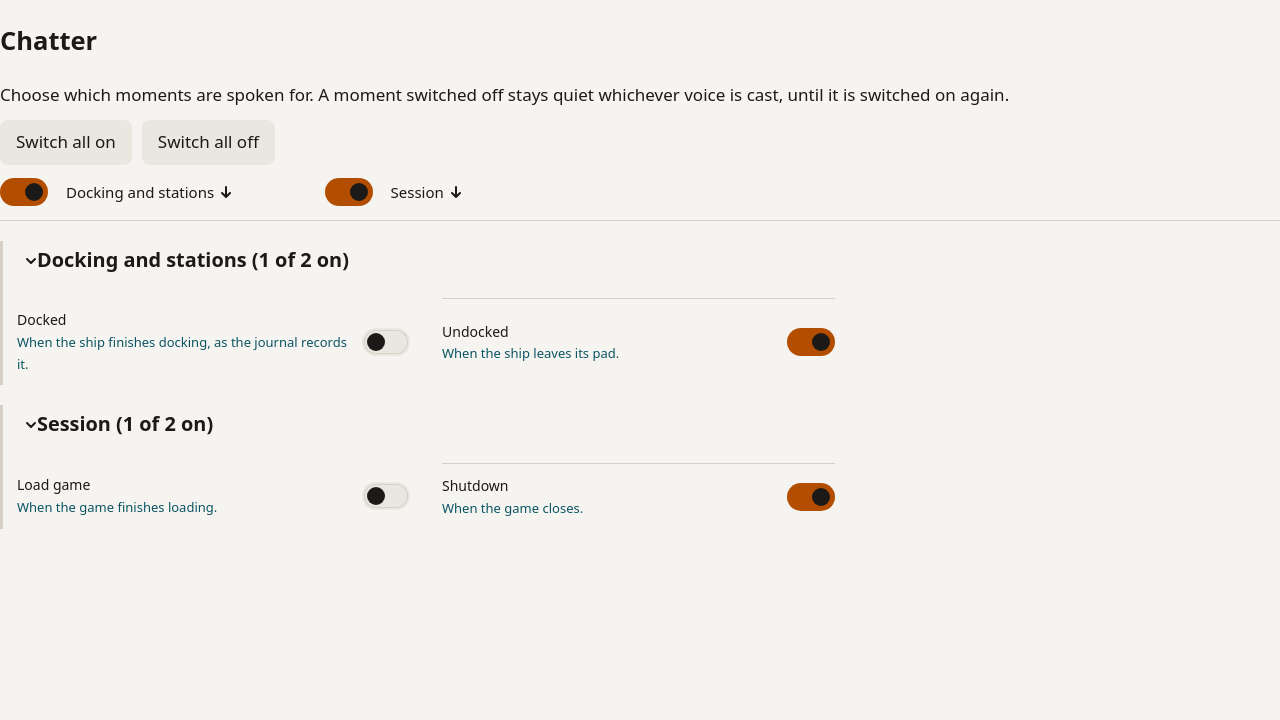
the chatter pane › asks before changing many moments and changes nothing when declined
This screenshot has width=1280, height=720.
Expected: the switch named "Docked" is shown, x1=362 y1=328 x2=410 y2=356
Click the button "Switch all on".
click(66, 142)  # box x1=0 y1=120 x2=132 y2=164
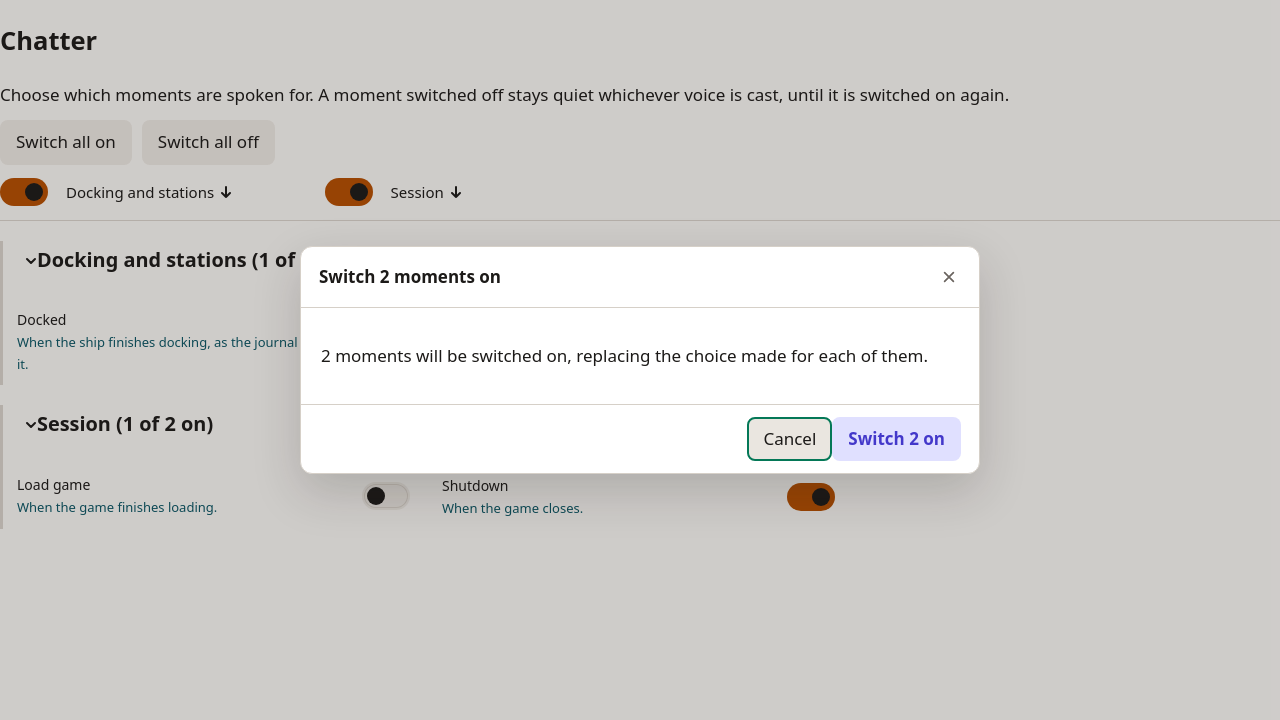
Expected: the dialog "Switch 2 moments on" shows "2 moments will be switched on", x1=321 y1=344 x2=928 y2=367
Click the button "Cancel".
click(790, 439)  # box x1=747 y1=417 x2=832 y2=461
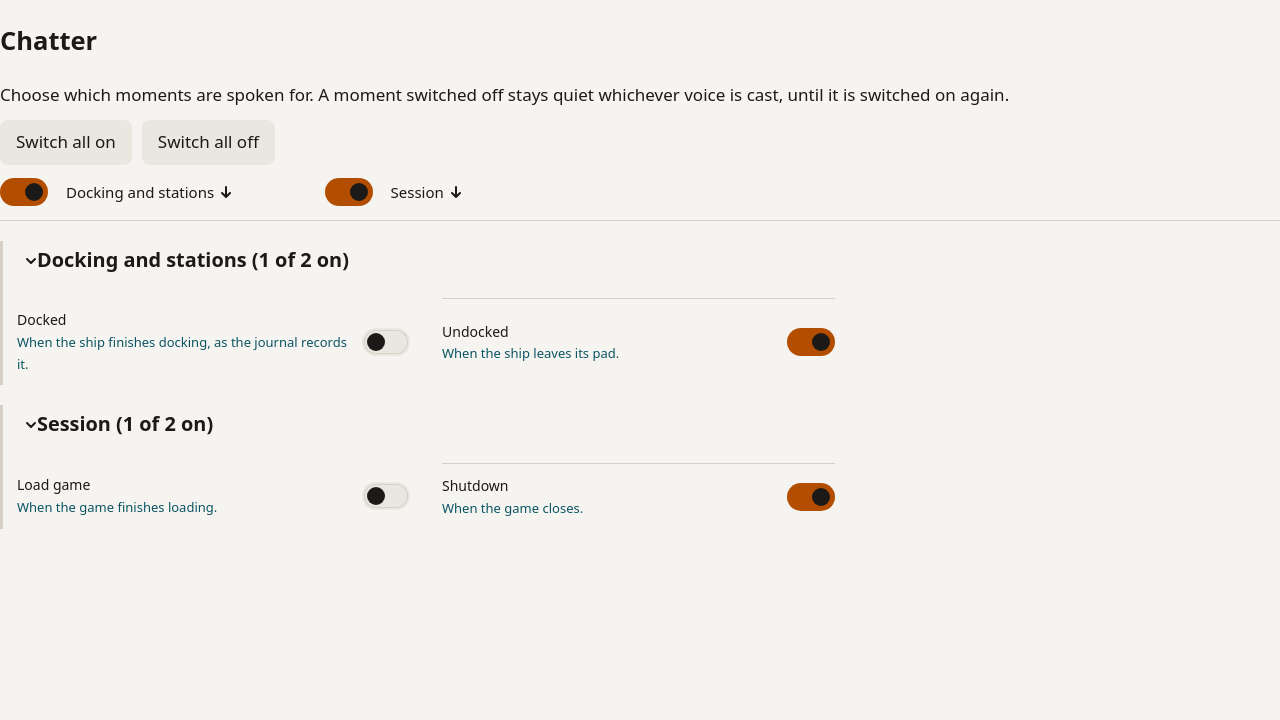
Expected: the dialog is gone
